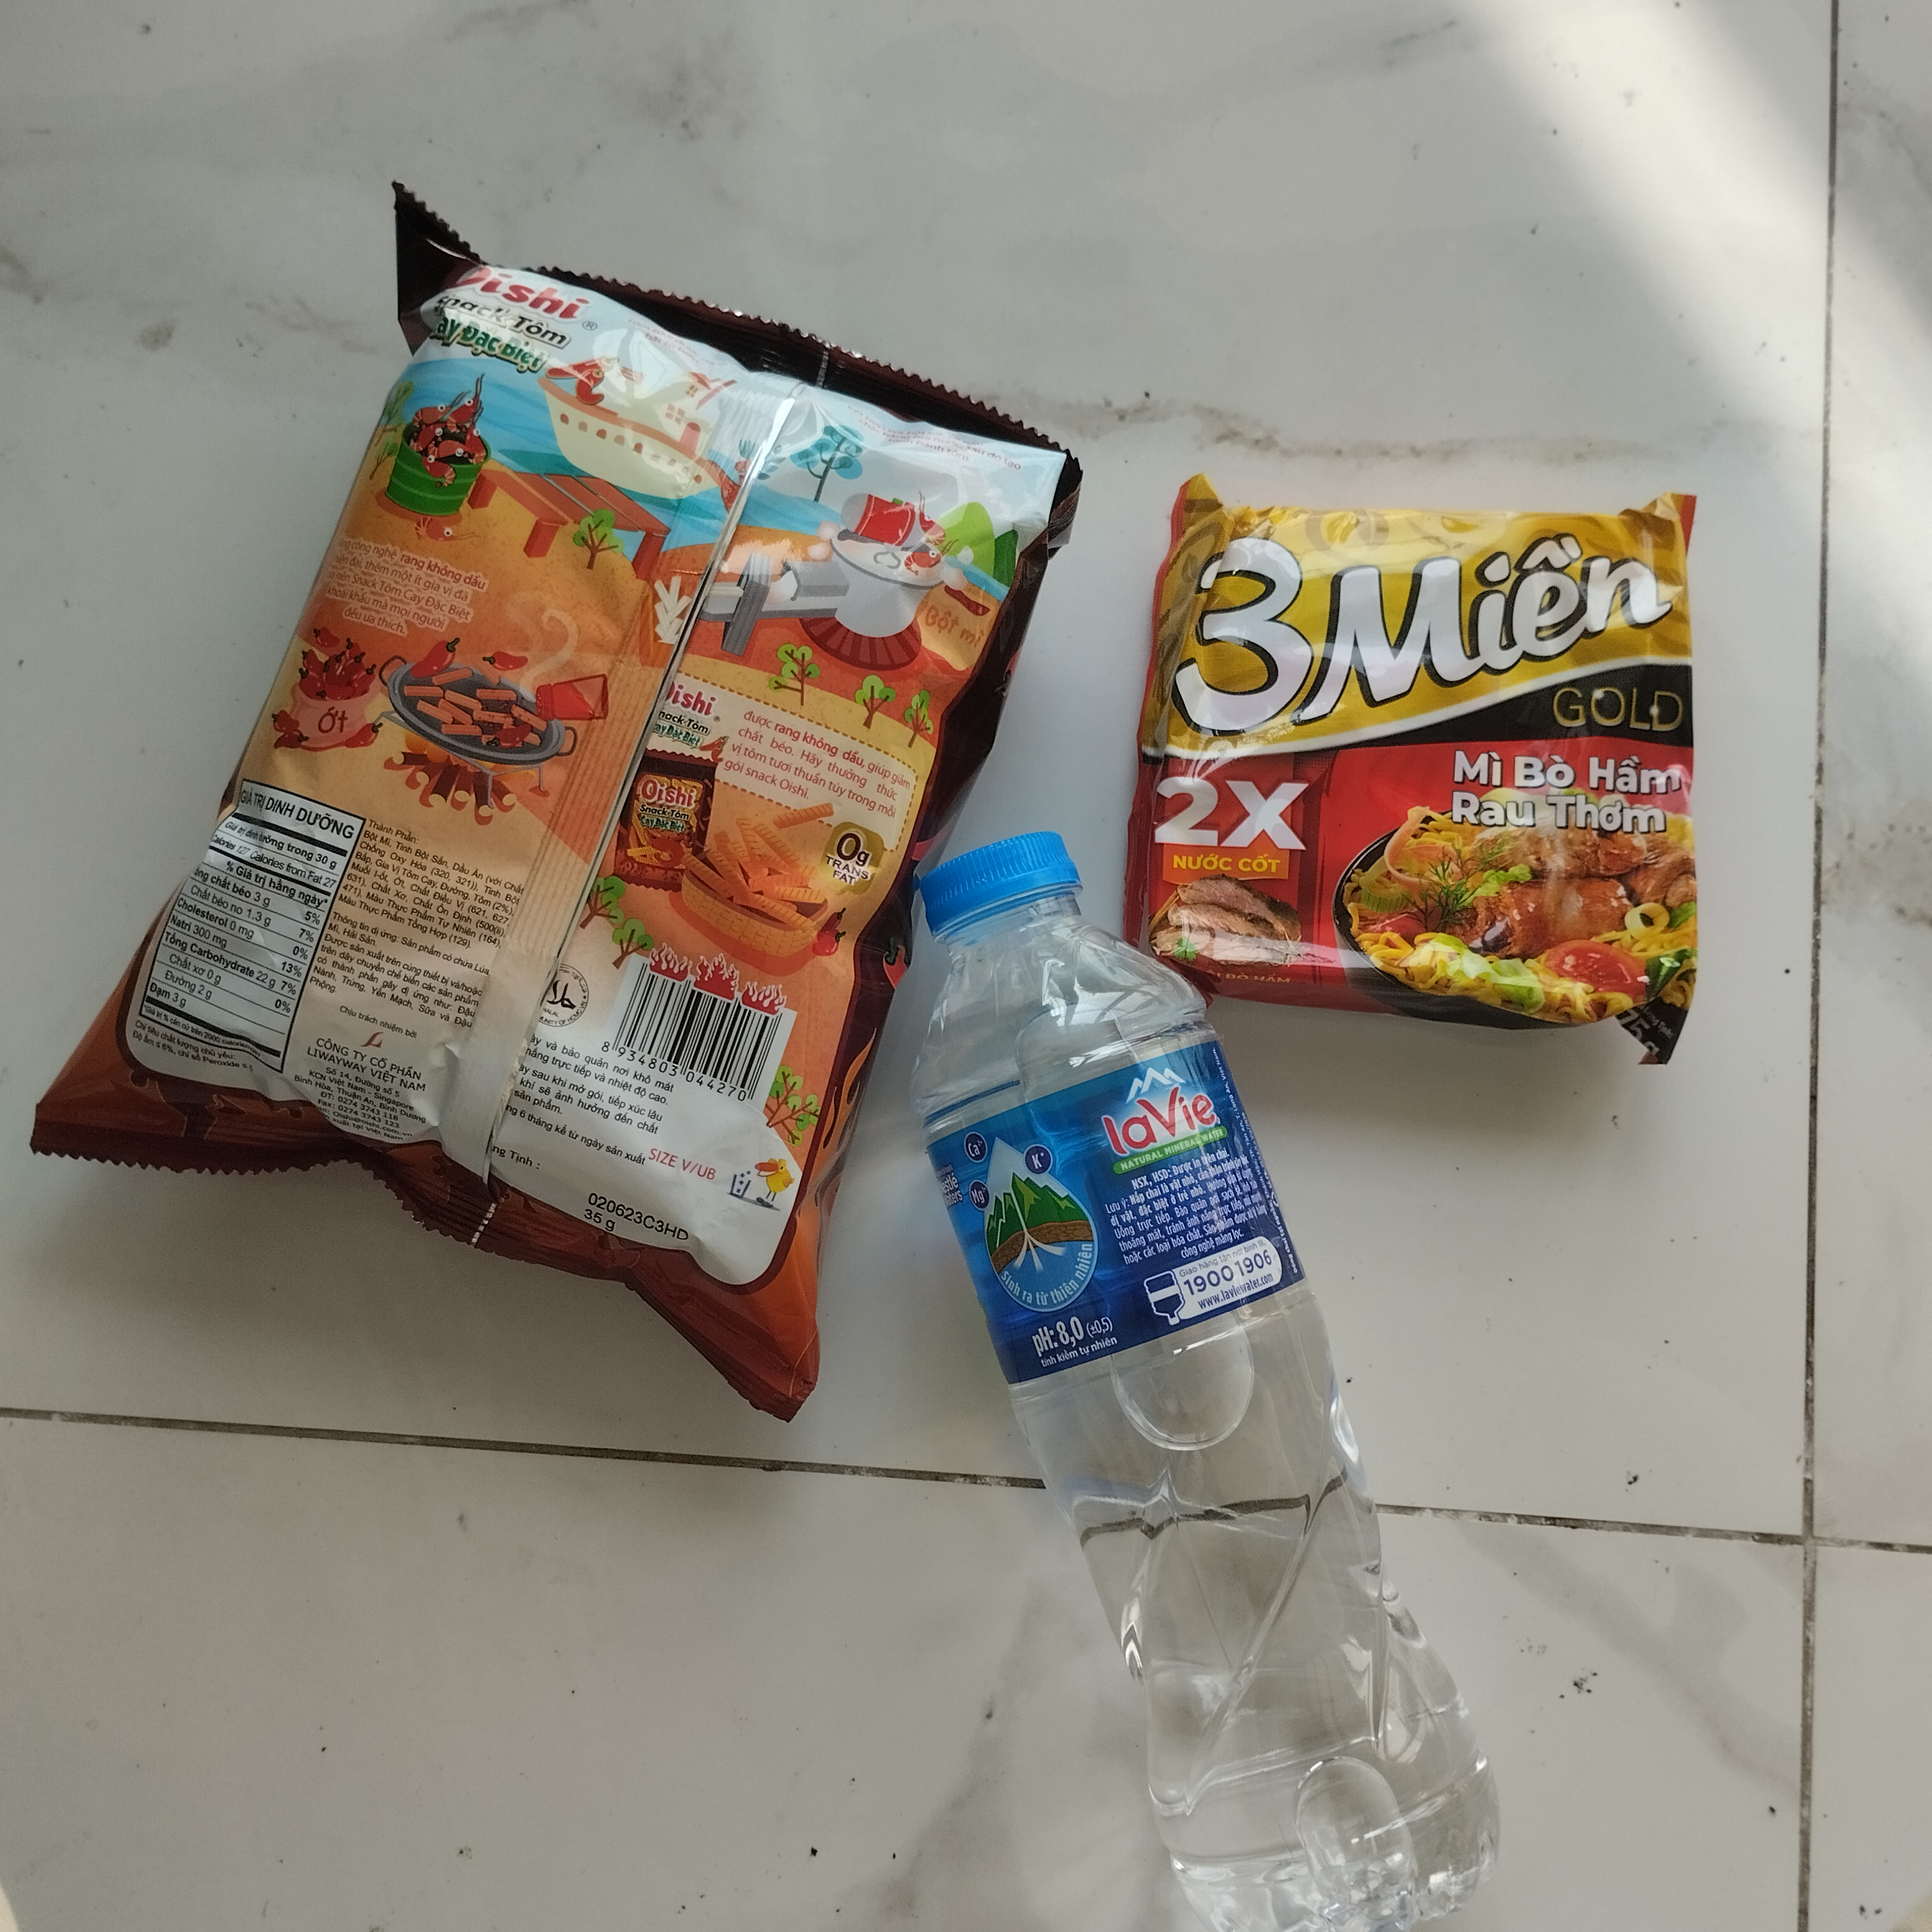3mien: (1116, 439, 1736, 1092)
Lavie: (872, 807, 1516, 1923)
Oishi_Cay: (35, 161, 1088, 1442)
